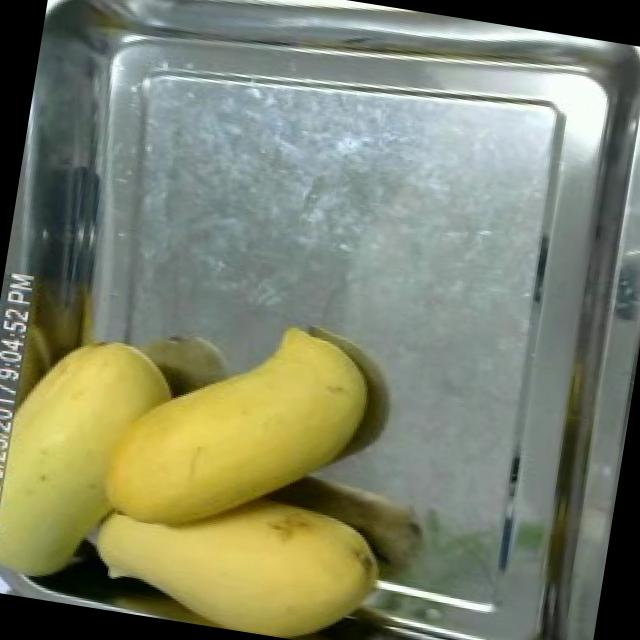fruit: (48, 279, 409, 640), (59, 454, 401, 640), (0, 314, 188, 612)
